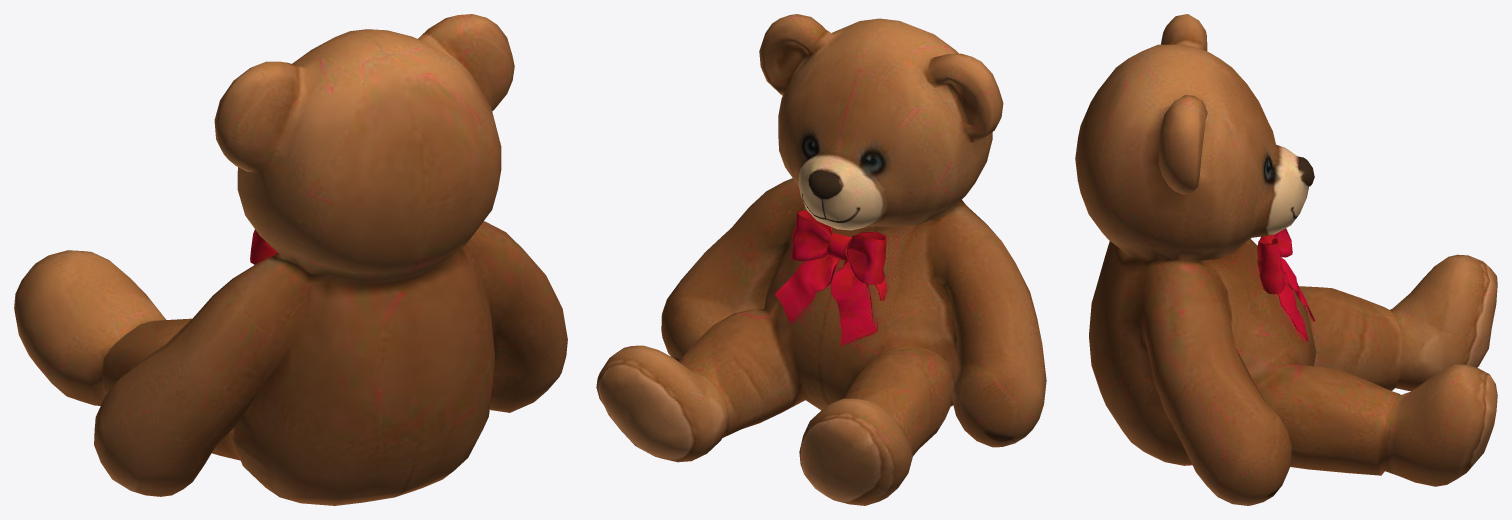
File: office-giant-teddy.glb
3 views of the same model, side by side, from view 1: azimuth 30°, elevation 25°; view 2: azimuth 150°, elevation 25°; view 3: azimuth 270°, elevation 25° (orthographic). The views are drawn at different scales.
Visible parts, largest first — view 1: giant-teddy; view 2: giant-teddy; view 3: giant-teddy.
Boxes of the visible parts, x1,y1,x2,y2 form: giant-teddy: (14,14,567,505); giant-teddy: (596,14,1046,505); giant-teddy: (1075,14,1497,505).
Size of the model in its own units: 1.3 by 1.2 by 1.21.
Materials: 1 (1 with a texture image).
